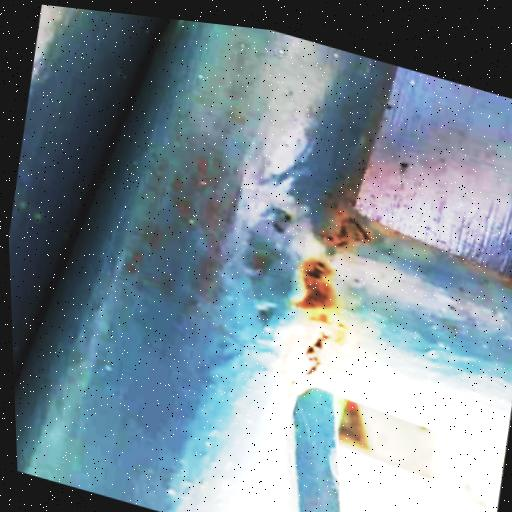corrosion: (277, 260, 362, 394), (323, 205, 372, 246)
